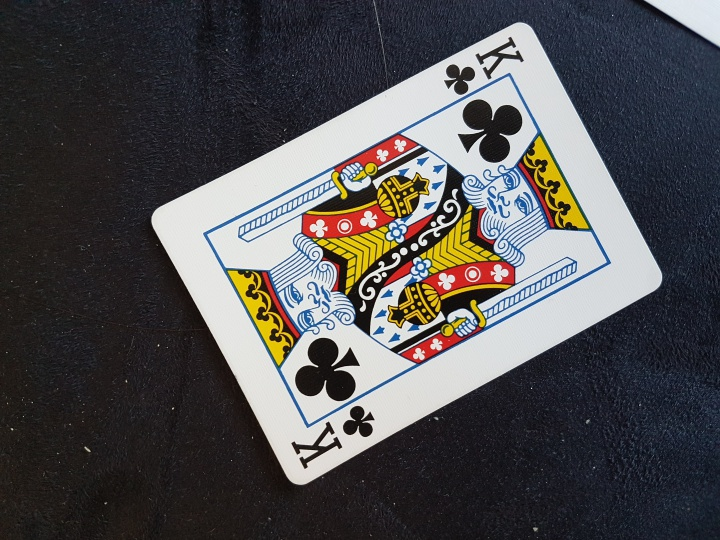king: (145, 13, 667, 510)
